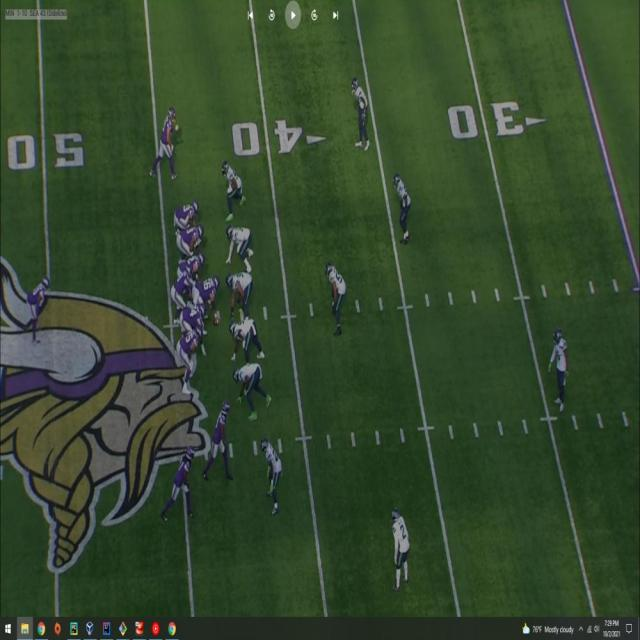center: (200, 273, 223, 322)
db: (550, 328, 569, 418), (394, 509, 411, 587), (396, 175, 412, 238), (353, 77, 367, 143)
lb: (326, 262, 347, 333), (262, 440, 281, 512), (224, 161, 244, 221)
qb: (170, 260, 193, 311)
skill: (204, 398, 234, 476), (154, 104, 177, 176), (28, 280, 51, 336), (172, 450, 192, 512), (170, 200, 202, 228)
